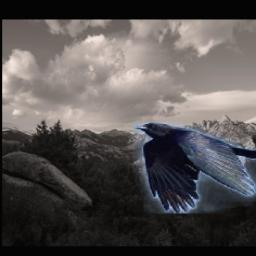Crow: (132, 123, 256, 214)
